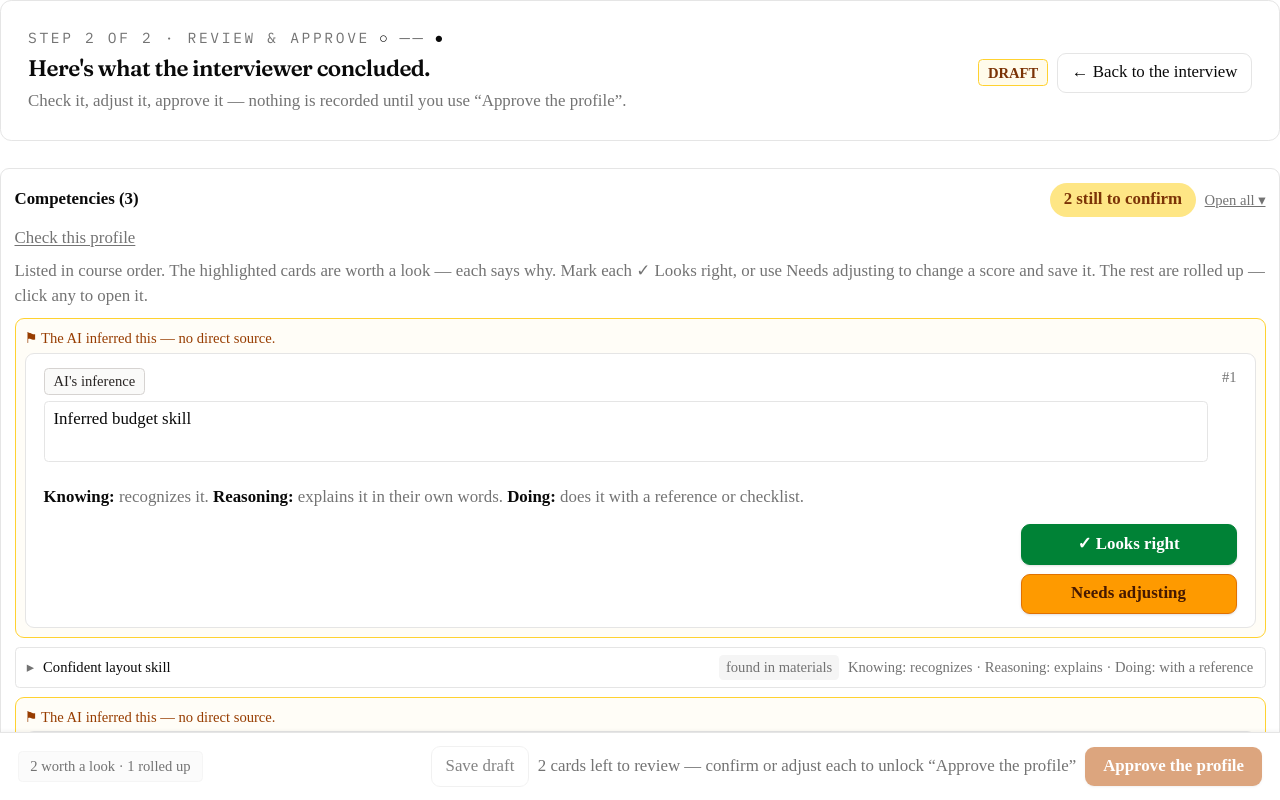
Test: approve count line › shows "N cards left to review", counts down live, and enables Approve at zero
Expected: the text "2 cards left to review — confirm or adjust each to unlock “Approve the profile”" is shown, [538, 754, 1076, 779]
Expected: the button "Approve the profile" is disabled, [1085, 747, 1262, 786]
What coordinates should you click on to do the following:
click the button "✓ Looks right"
I would click on:
 (1128, 545)
Its box is [1020, 524, 1236, 565].
(page scrolled)
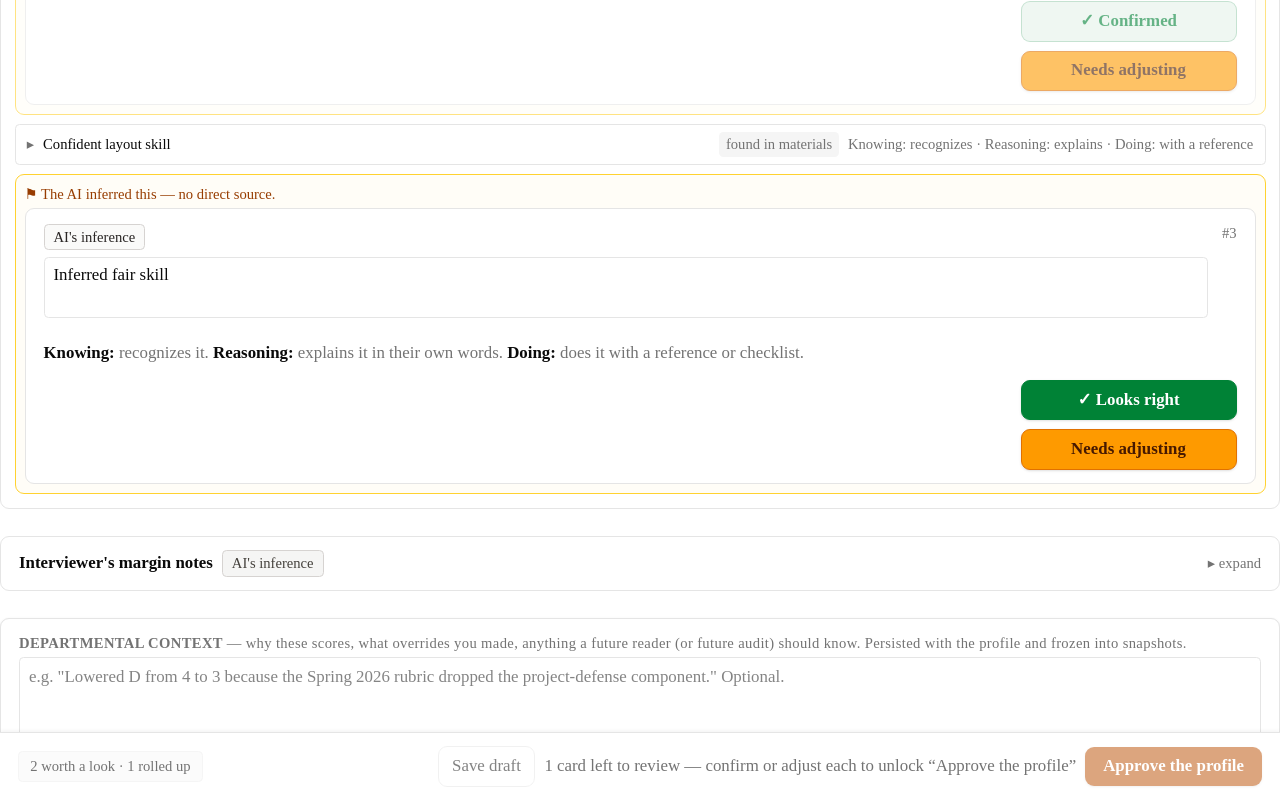
Expected: the button "Approve the profile" is disabled, [1085, 747, 1262, 786]
Result: the text "1 card left to review — confirm or adjust each to unlock “Approve the profile”" is shown at [544, 754, 1076, 779]
What coordinates should you click on to do the following:
click the button "✓ Looks right"
I would click on:
 (1128, 400)
Its box is [1020, 380, 1236, 420].
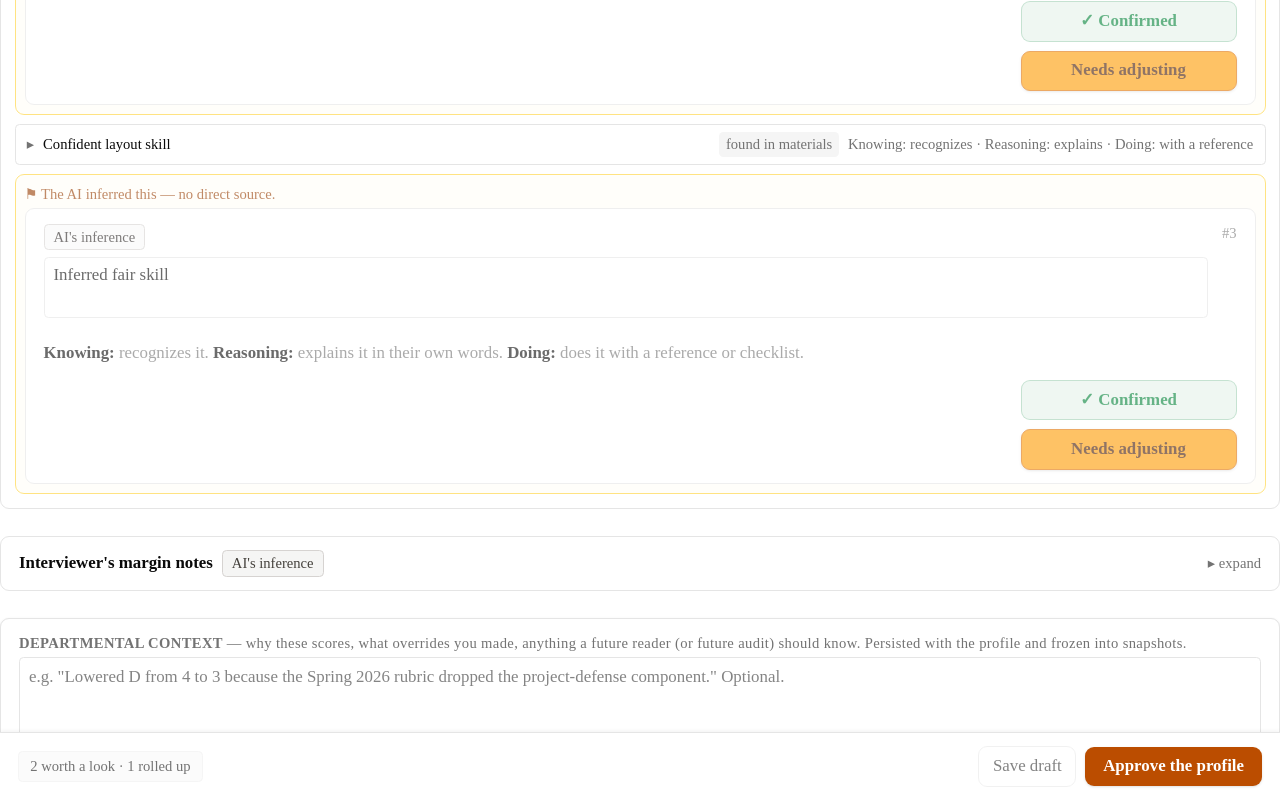
Result: the text "left to review" is gone
Result: the button "Approve the profile" is enabled at [1085, 747, 1262, 786]
